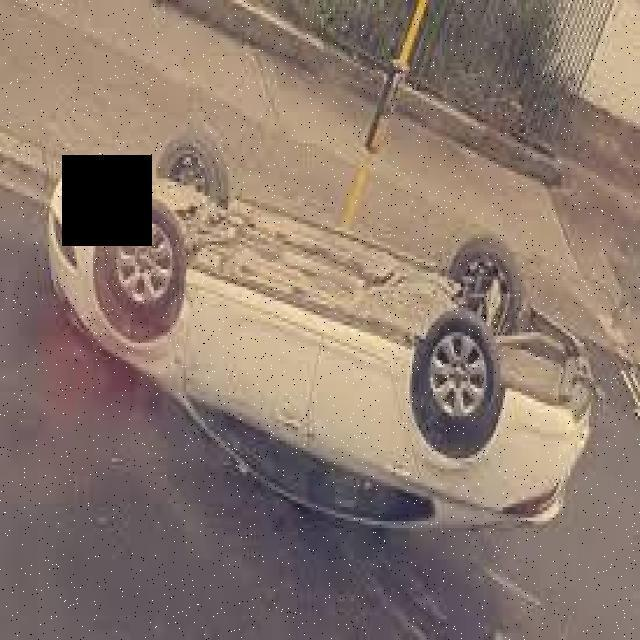single accident: (40, 92, 640, 576)
